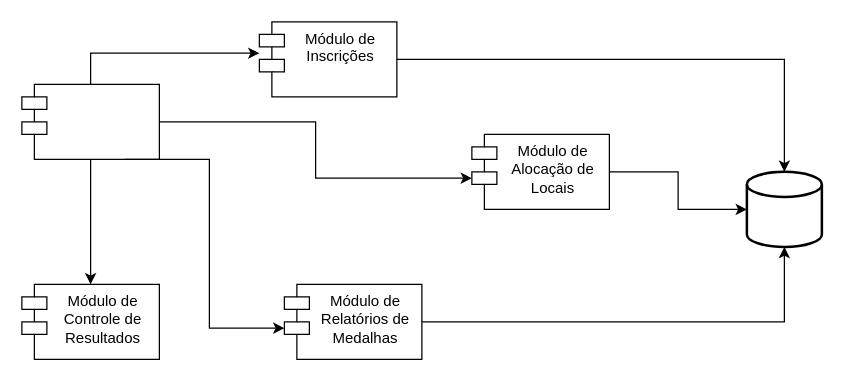
The diagram is 845 pixels wide and 381 high, and some of its shapes have lost their labels. The shapes that lost their labels are listed below. From the top down, each one's centre as x and y in pixels, then its label:
point (90, 121): Interface de Usuário
point (783, 209): Banco de Dados
